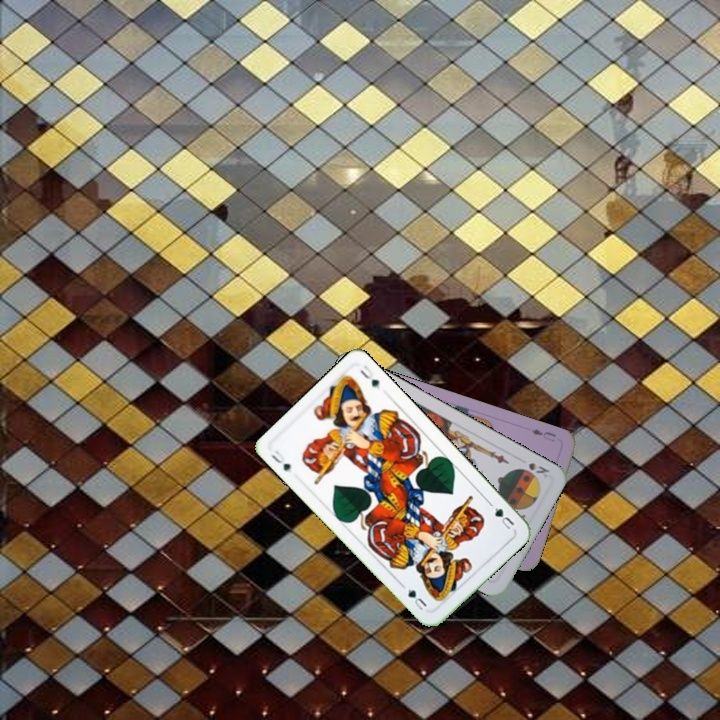EU: (527, 425, 559, 444)
GU: (486, 499, 517, 532), (267, 446, 293, 475)
SK: (524, 458, 552, 480)
